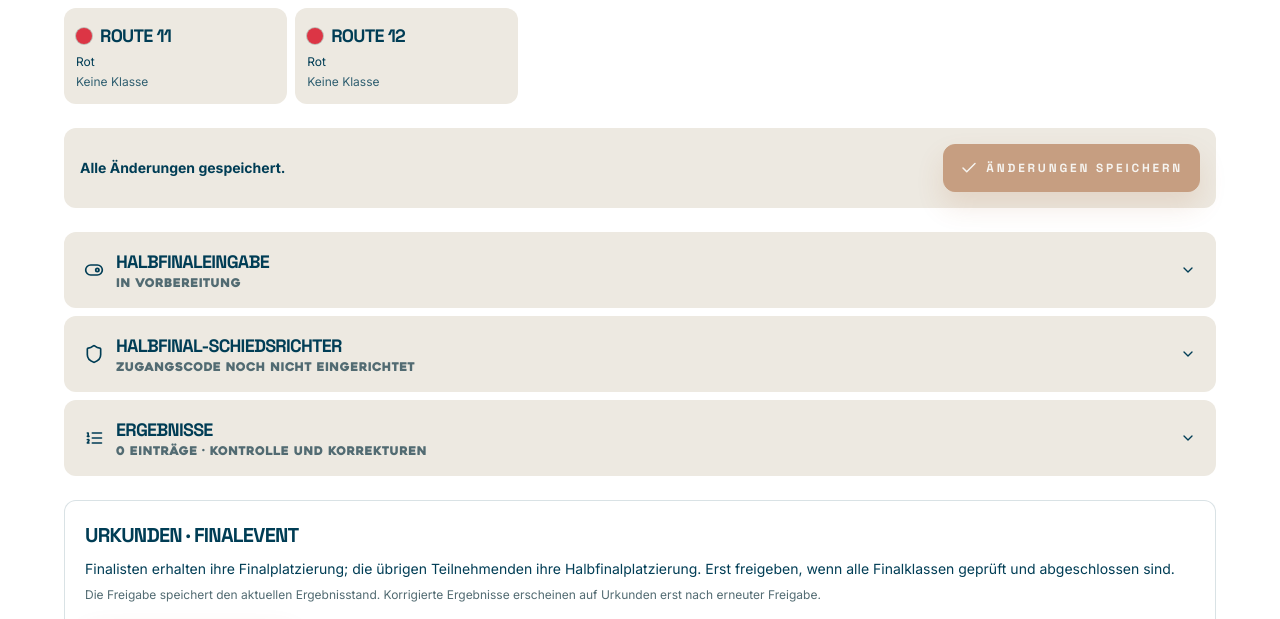
it: competition admin › keeps operations collapsed and opens one menu at a time
(page scrolled)
Check: the button "Eingabe öffnen" is not shown
Click the button "Halbfinaleingabe In Vorbereitung" at (193, 262), box [64, 232, 1216, 308]
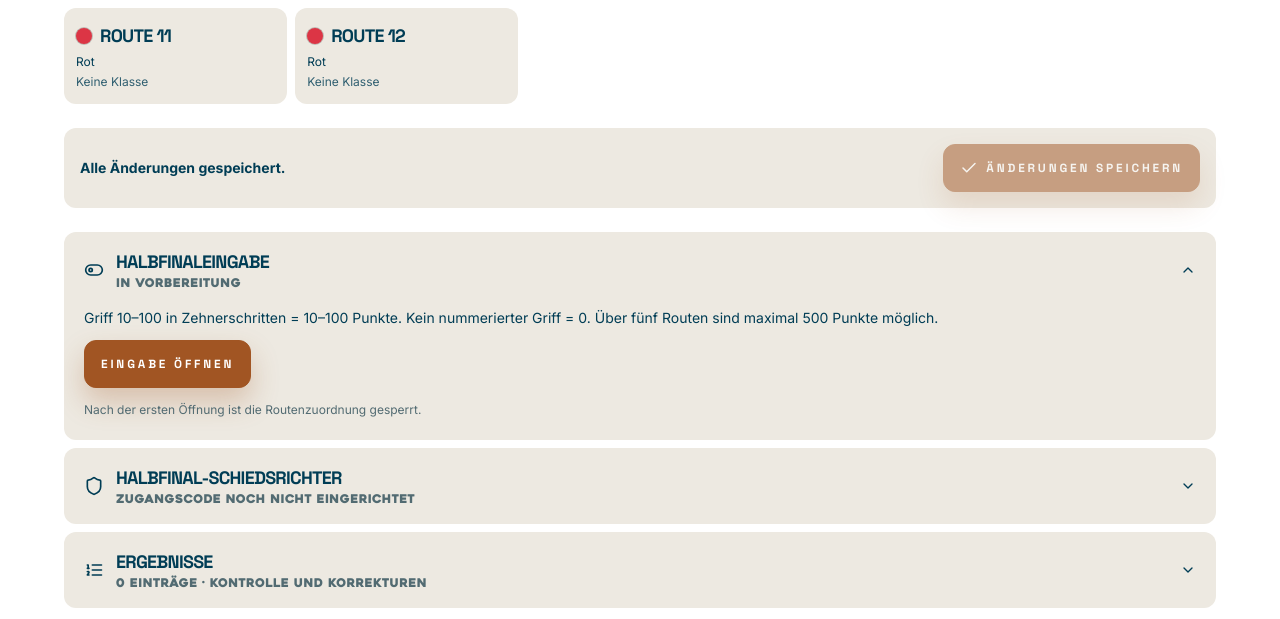
Check: the button "Halbfinaleingabe In Vorbereitung" is expanded, box [64, 232, 1216, 308]
Click the button "Ergebnisse 0 Einträge · Kontrolle und Korrekturen" at (164, 562), box [64, 532, 1216, 608]
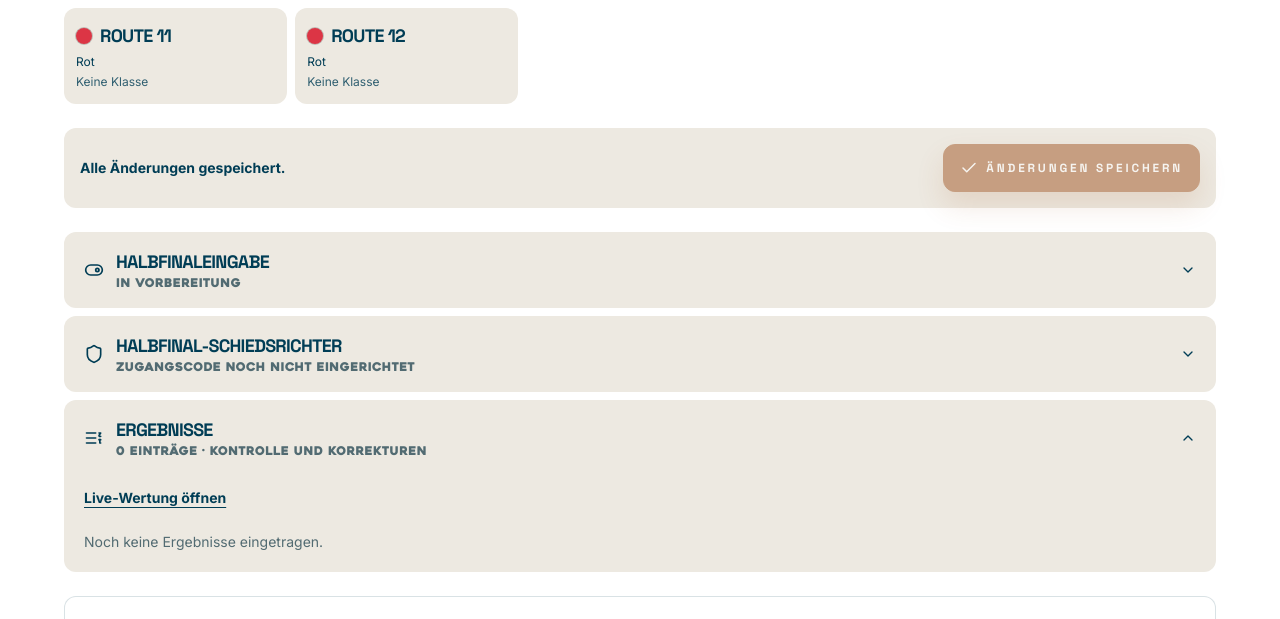
Check: the button "Halbfinaleingabe In Vorbereitung" is collapsed, box [64, 232, 1216, 308]
Check: the text "Noch keine Ergebnisse eingetragen." is shown, box [84, 533, 323, 550]
